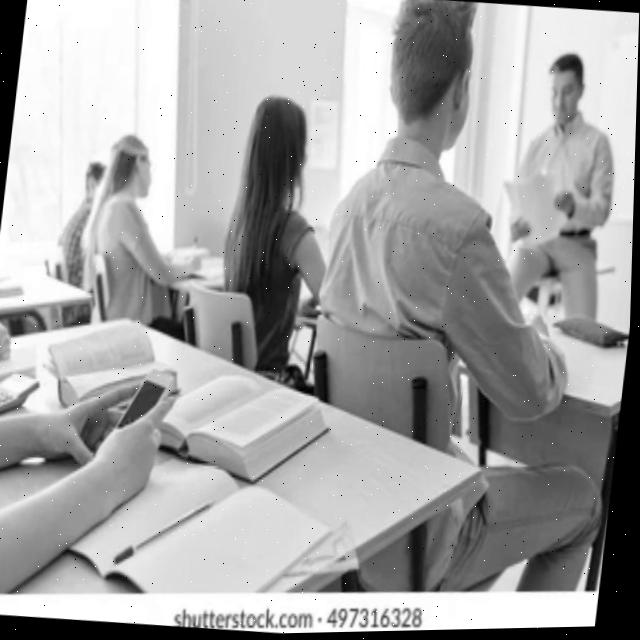phone: (110, 361, 182, 433), (0, 364, 45, 424)
